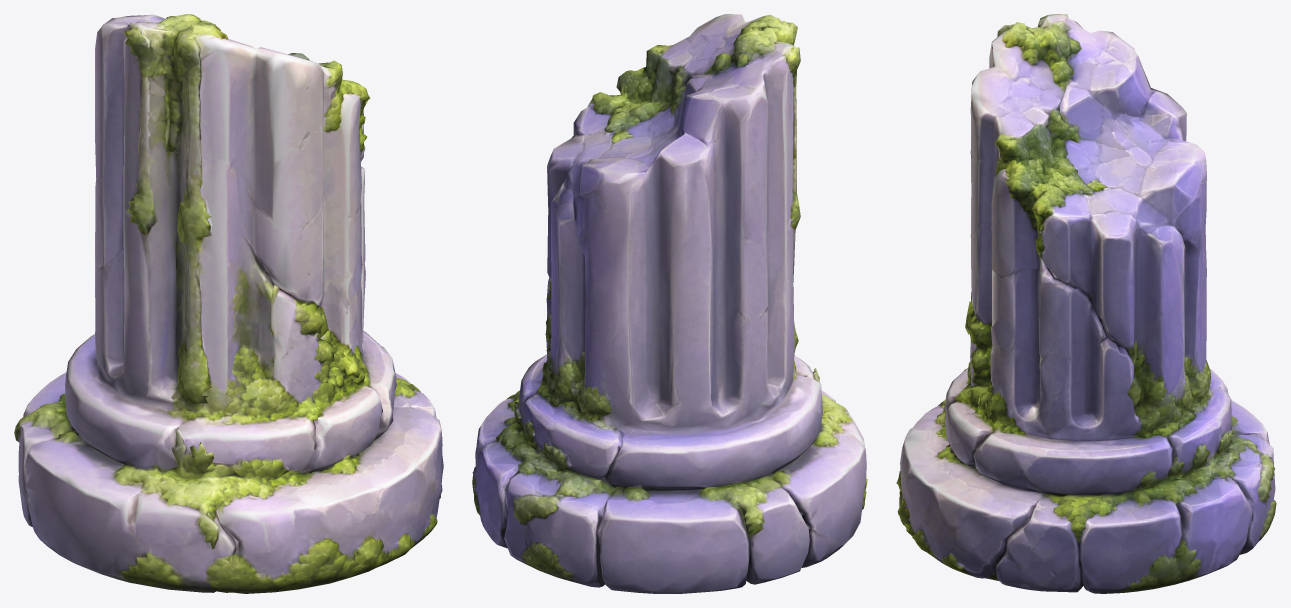
The model's file is Kit_R_PillarA_HD_src.glb.
3 views of the same model, side by side, from view 1: azimuth 30°, elevation 25°; view 2: azimuth 150°, elevation 25°; view 3: azimuth 270°, elevation 25° (orthographic). The views are drawn at different scales.
Visible parts, largest first — view 1: tripo_node_80c4575d-6b5a-49e9-b970-bdfbc7561360; view 2: tripo_node_80c4575d-6b5a-49e9-b970-bdfbc7561360; view 3: tripo_node_80c4575d-6b5a-49e9-b970-bdfbc7561360.
Part boxes in pixels (bbox=[...]): tripo_node_80c4575d-6b5a-49e9-b970-bdfbc7561360: bbox=[14, 14, 443, 593]; tripo_node_80c4575d-6b5a-49e9-b970-bdfbc7561360: bbox=[472, 14, 867, 593]; tripo_node_80c4575d-6b5a-49e9-b970-bdfbc7561360: bbox=[896, 14, 1276, 593].
Bounding box in the file's own units: 0.706 × 0.9804 × 0.7204.
Materials: 1 (1 with a texture image).
